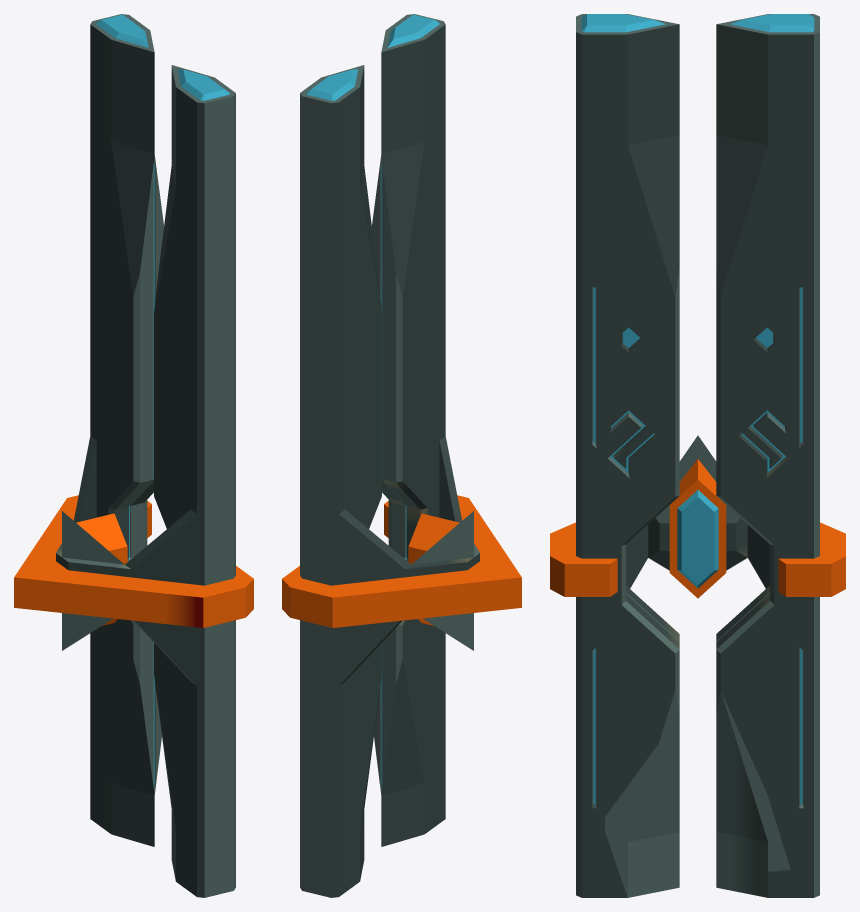
Rendered from ancientgate2.gltf.
3 views of the same model, side by side, from view 1: azimuth 30°, elevation 25°; view 2: azimuth 150°, elevation 25°; view 3: azimuth 270°, elevation 25° (orthographic). The views are drawn at different scales.
Parts seen in each view (by area): view 1: Cube.002; view 2: Cube.002; view 3: Cube.002.
Part boxes in pixels (x1,y1,x2,y2): Cube.002: [14, 14, 253, 897]; Cube.002: [282, 14, 521, 897]; Cube.002: [550, 14, 845, 897].
Bounding box in the file's own units: 1.04 × 4.48 × 1.38.
Materials: 1 (1 with a texture image).
